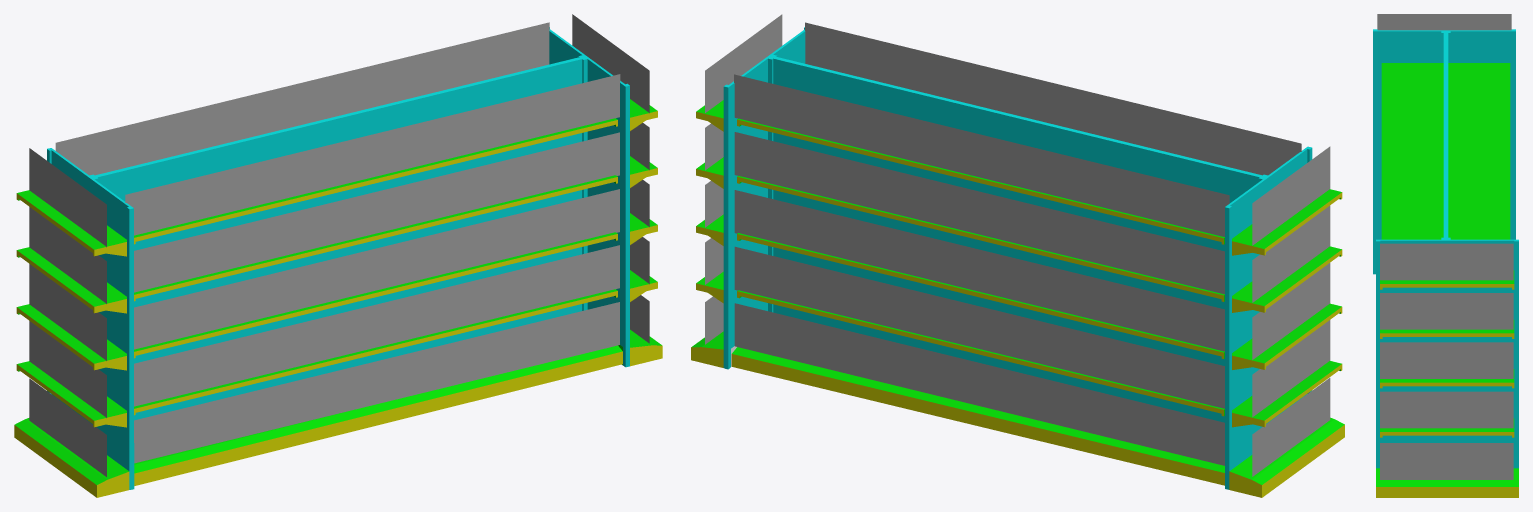
The model's file is General_separate.fbx.
The picture shows the model from 3 angles, left to right: view 1: azimuth 30°, elevation 25°; view 2: azimuth 150°, elevation 25°; view 3: azimuth 270°, elevation 25°; orthographic projection. The views are drawn at different scales.
Visible parts, largest first — view 1: Front_back1, General_rack, Left_right1; view 2: Front_back1, General_rack, Left_right1; view 3: General_rack, Left_right1.
Part boxes in pixels (<box>): Front_back1: <box>55,22,620,463</box>; General_rack: <box>14,27,662,497</box>; Left_right1: <box>29,14,649,476</box>; Front_back1: <box>734,22,1301,465</box>; General_rack: <box>691,27,1344,497</box>; Left_right1: <box>705,14,1330,476</box>; General_rack: <box>1373,29,1518,497</box>; Left_right1: <box>1377,14,1513,479</box>.
Bounding box in the file's own units: 529 × 258 × 136.
